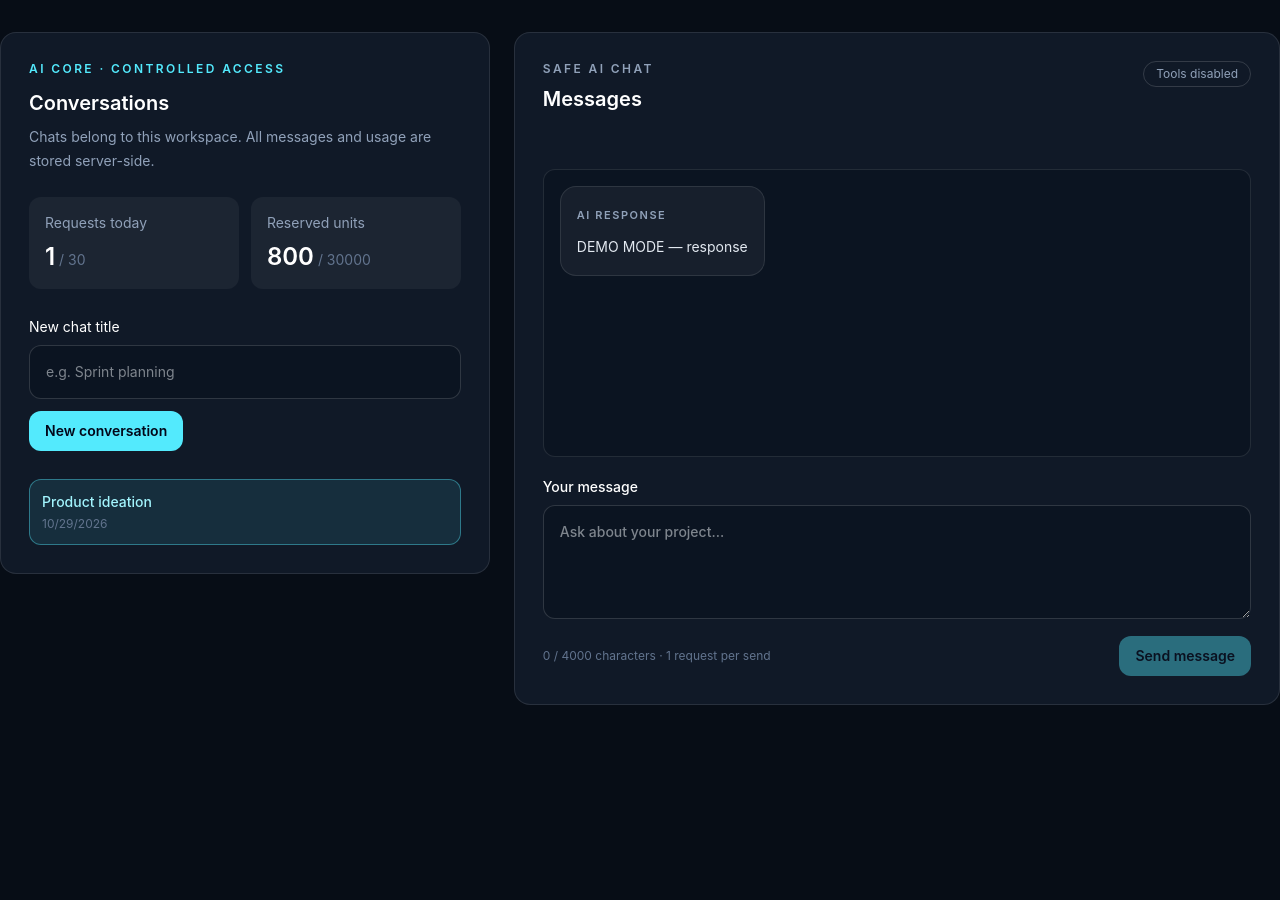
Scenario: Phase 3 safe AI browser interface › lets Member send through typed API with unique request identifier
expect the text "DEMO MODE — response" is shown: met, box x1=577 y1=235 x2=748 y2=259
Type "Plan a feature" into the text box labelled "Your message" at point(897, 562), box x1=543 y1=505 x2=1251 y2=619
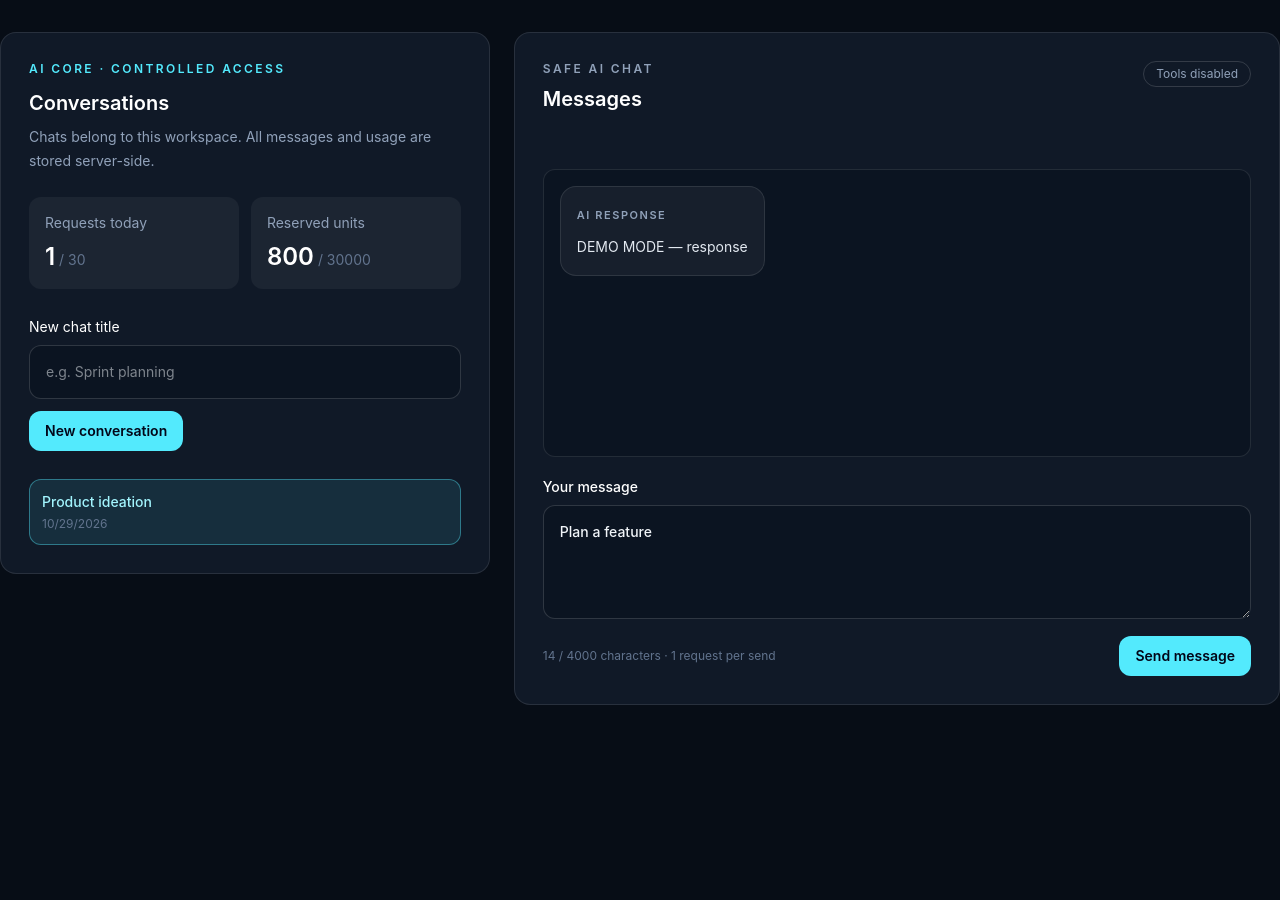
Click the button "Send message" at point(1185, 656), box x1=1119 y1=636 x2=1251 y2=676
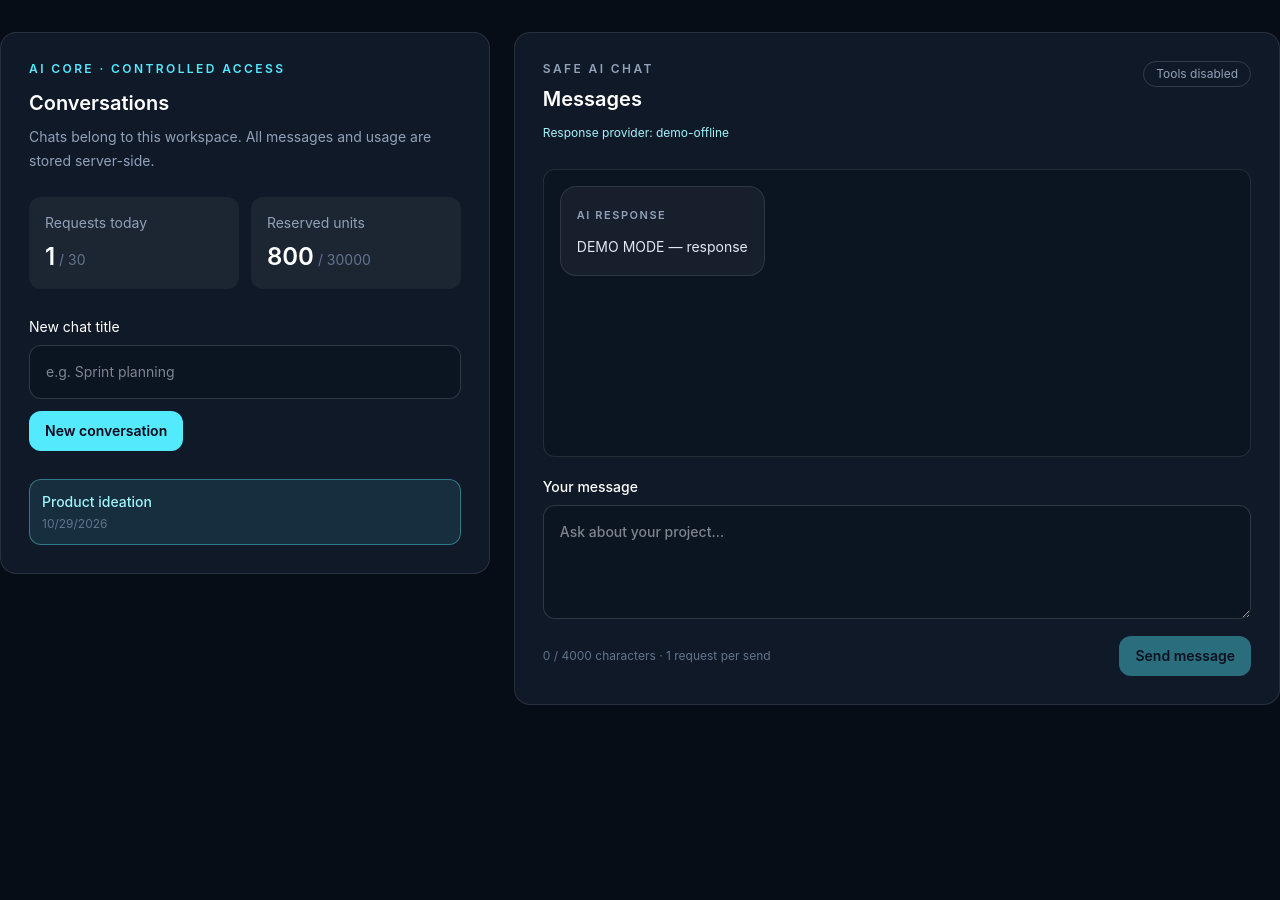
expect the text "Response provider: demo-offline" is shown: met, box x1=543 y1=125 x2=729 y2=140
